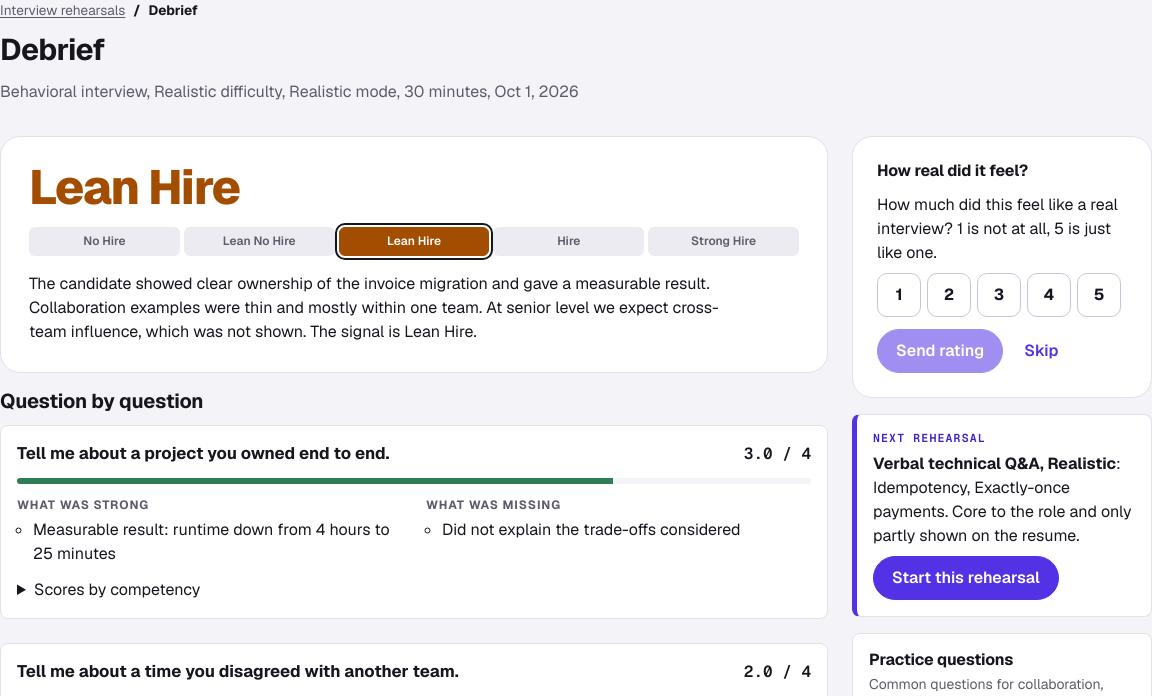
Test: L05 realism rating › L05: the candidate rates the interview 1 to 5 with an optional comment
Expected: the button "Send rating" is disabled, x1=877 y1=329 x2=1003 y2=373
Click the radio button labelled "4" at {"x": 1049, "y": 295}, box x1=1027 y1=273 x2=1071 y2=317
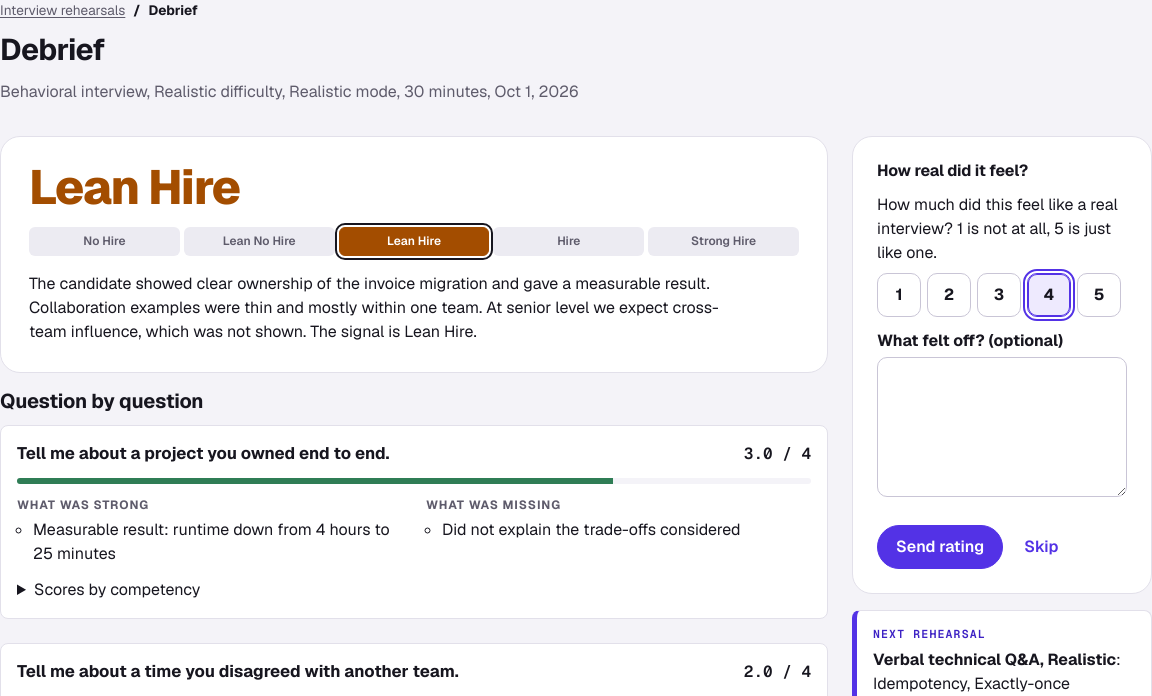
Type "Too polite" into the text box labelled "What felt off? (optional)" at {"x": 1002, "y": 427}, box x1=877 y1=357 x2=1127 y2=497
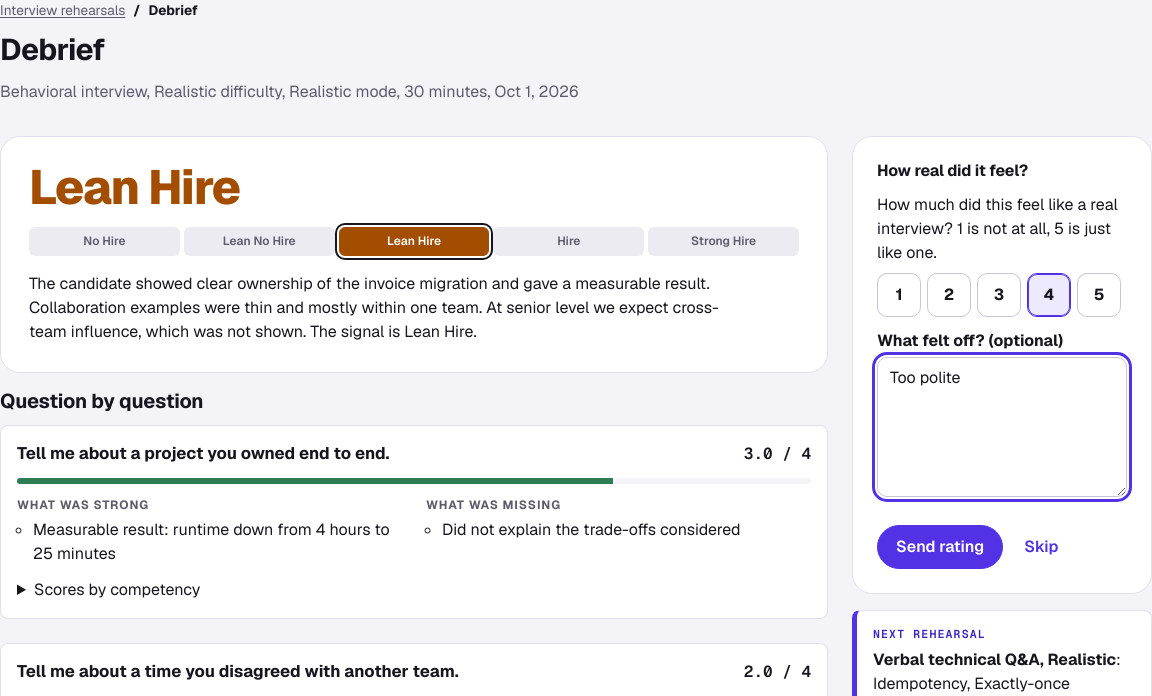
Click the button "Send rating" at {"x": 940, "y": 547}, box x1=877 y1=525 x2=1003 y2=569
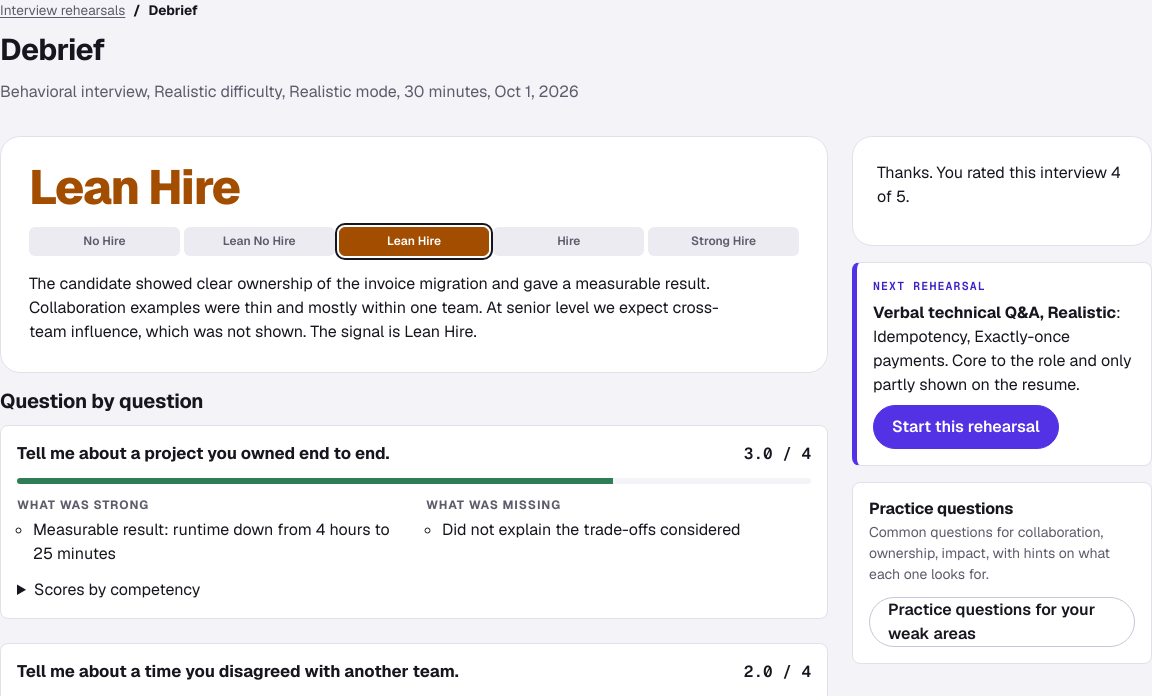
Expected: the text "Thanks. You rated this interview 4 of 5." is shown, x1=877 y1=161 x2=1127 y2=209
